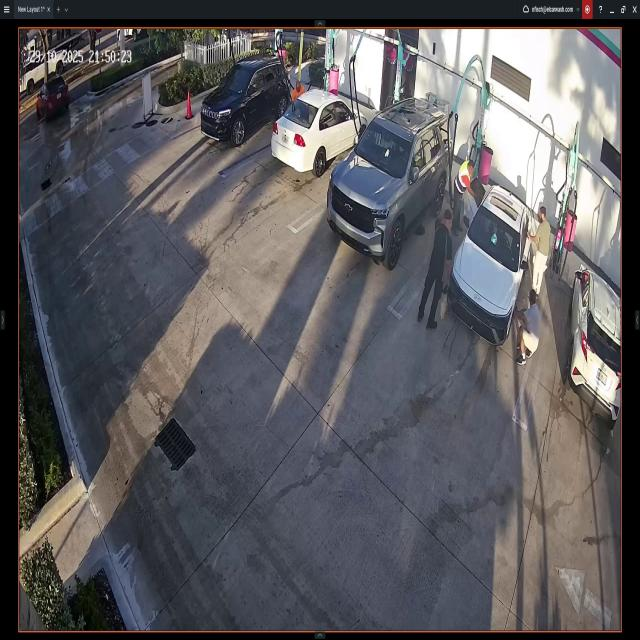Car: (328, 100, 452, 265), (447, 182, 533, 345), (273, 86, 368, 177), (570, 265, 621, 425), (199, 58, 287, 143), (36, 74, 71, 124)
